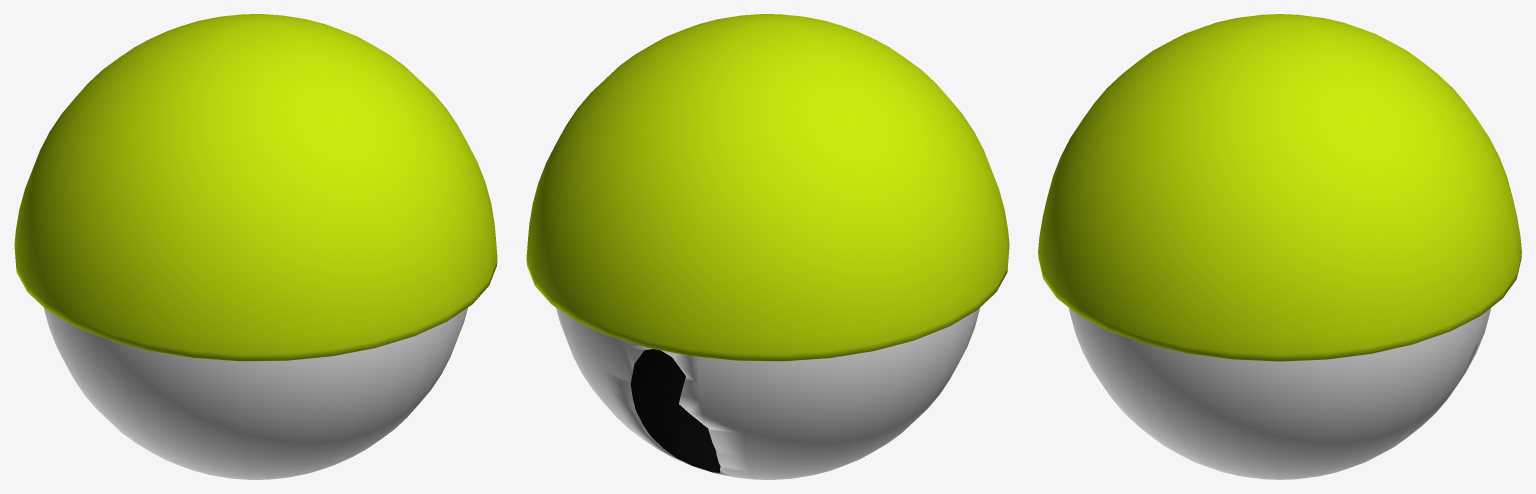
File: oleos.glb
3 renders of one model, left to right at view 1: azimuth 30°, elevation 25°; view 2: azimuth 150°, elevation 25°; view 3: azimuth 270°, elevation 25°, orthographic.
Visible parts, largest first — view 1: Sphere.001; view 2: Sphere.001; view 3: Sphere.001.
Boxes of the visible parts, x1,y1,x2,y2 form: Sphere.001: (14,14,497,479); Sphere.001: (526,14,1009,479); Sphere.001: (1038,14,1521,479).
Bounding box in the file's own units: 3.21 × 3.11 × 3.21.
